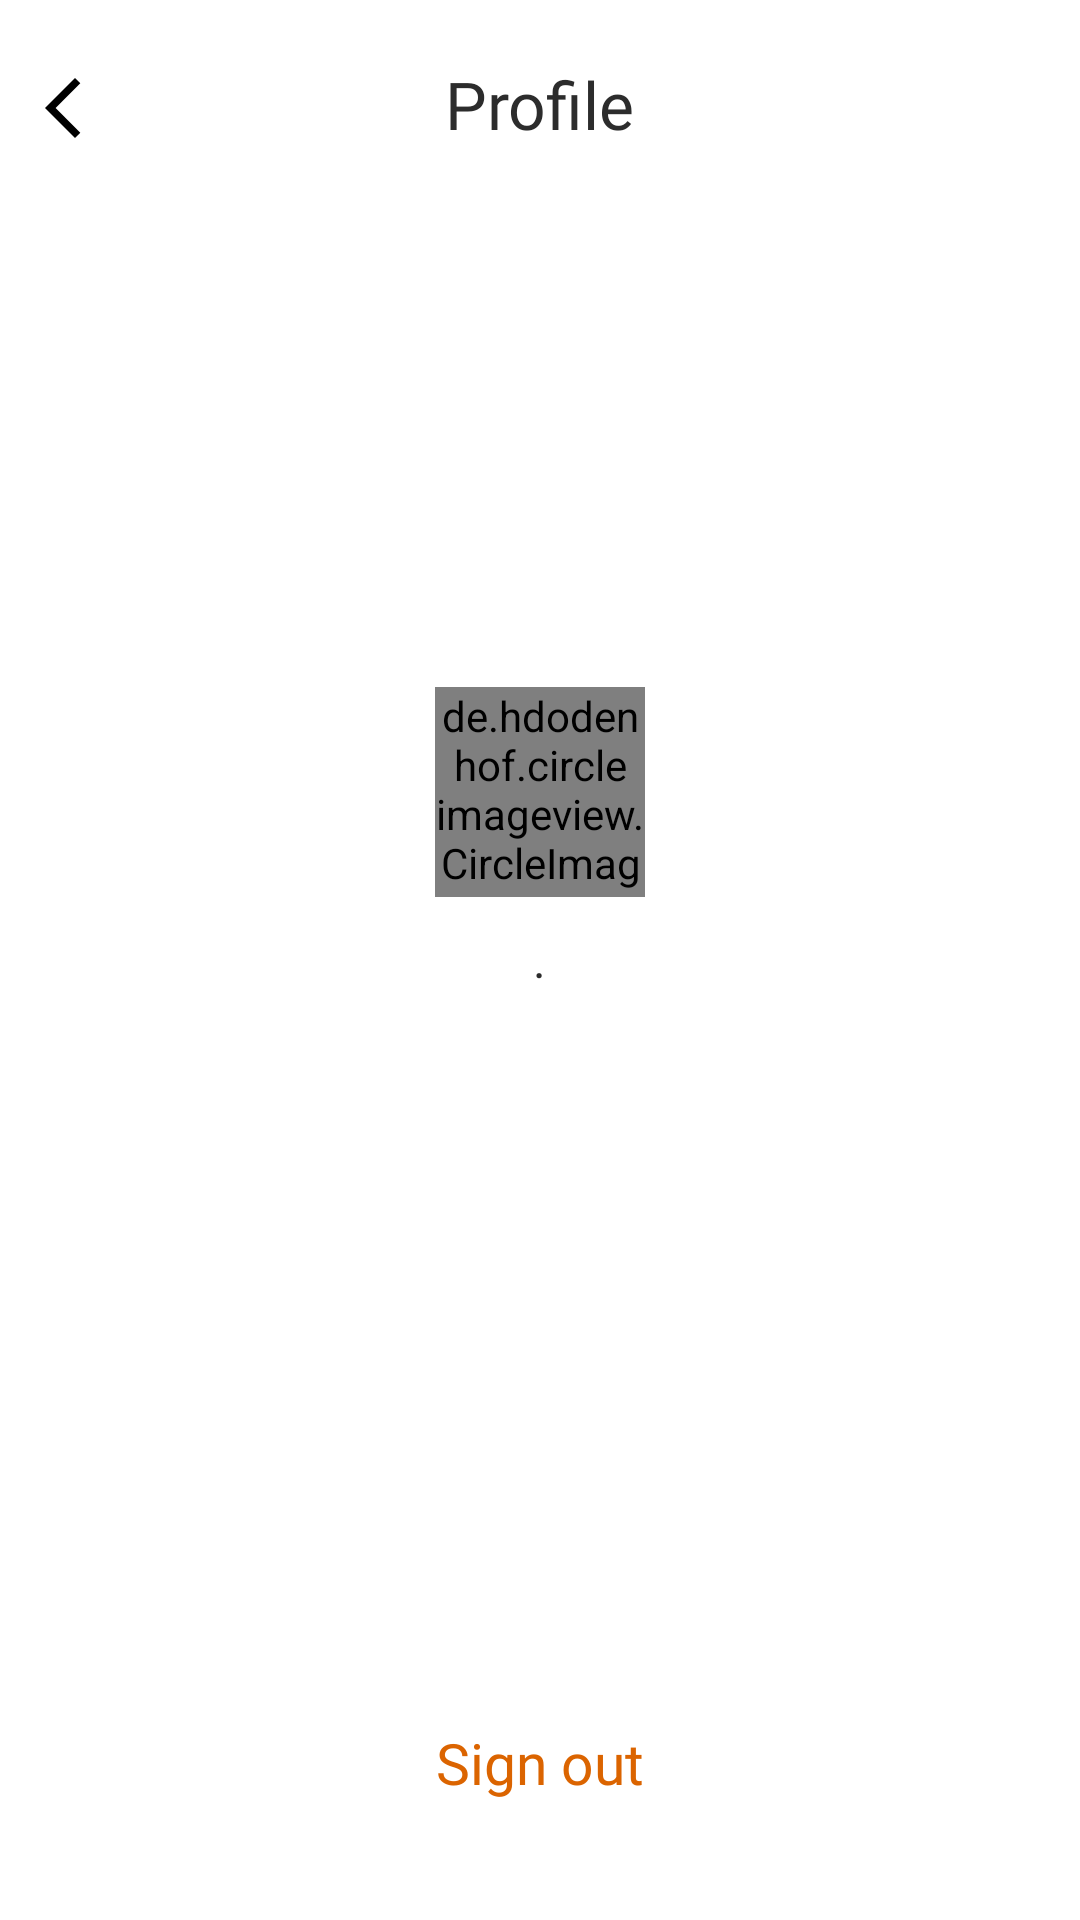

Point at icon controls on the screen. Image size 1080px×1920px, points as [x,y].
back: [62,108]
